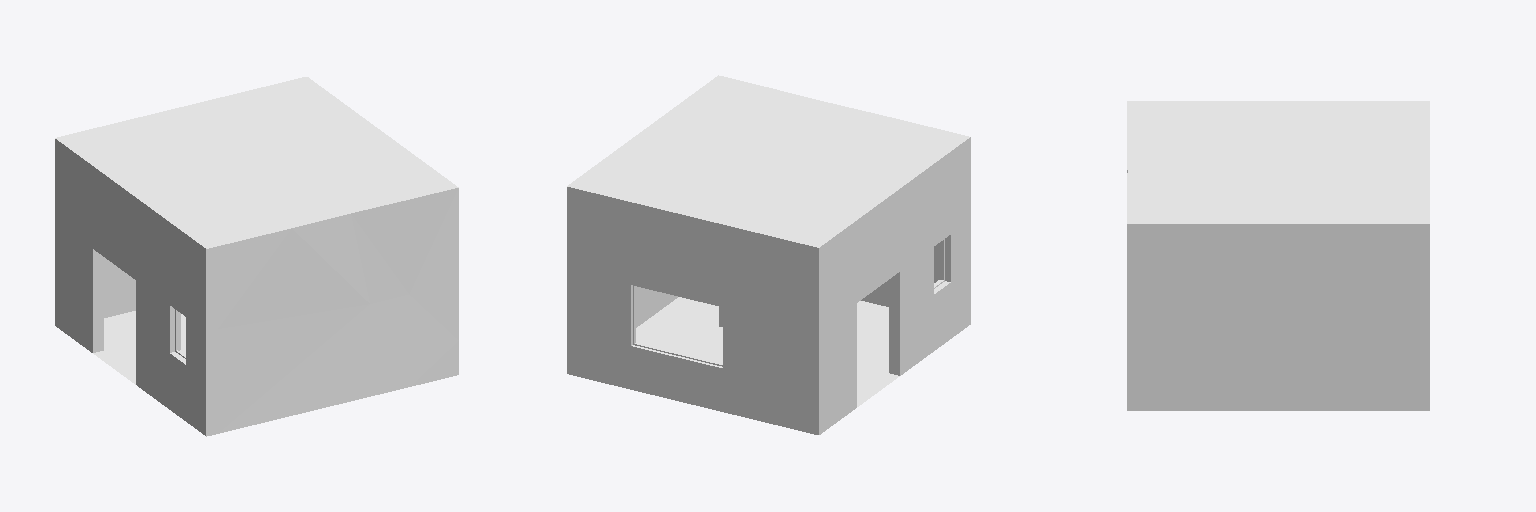
File: solostanza2.obj
The picture shows the model from 3 angles: view 1: azimuth 30°, elevation 25°; view 2: azimuth 150°, elevation 25°; view 3: azimuth 270°, elevation 25°; orthographic projection.
Visible parts, largest first — view 1: pronta.1; view 2: pronta.1; view 3: pronta.1.
Boxes of the visible parts, x1=… form: pronta.1: x1=55, y1=77, x2=458, y2=436; pronta.1: x1=567, y1=75, x2=970, y2=434; pronta.1: x1=1127, y1=101, x2=1429, y2=410.
Size of the model in its own units: 605 by 430 by 637.